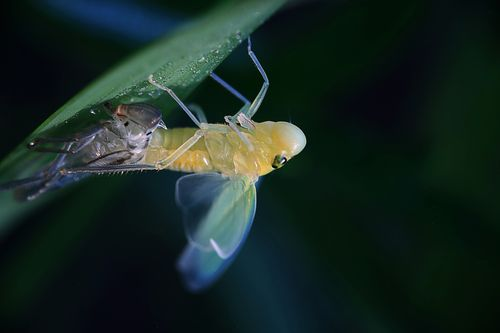Cicadellidae: (9, 100, 162, 200), (143, 117, 306, 177)
